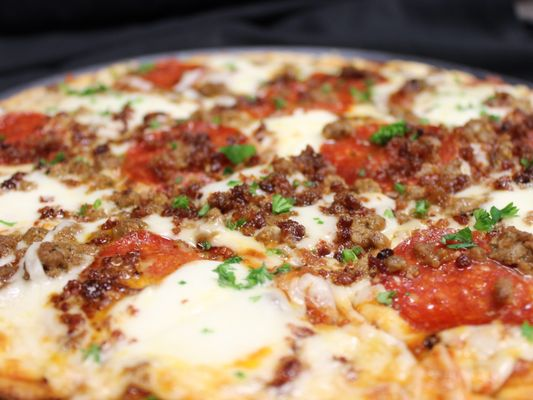sandwich: (0, 52, 533, 399)
